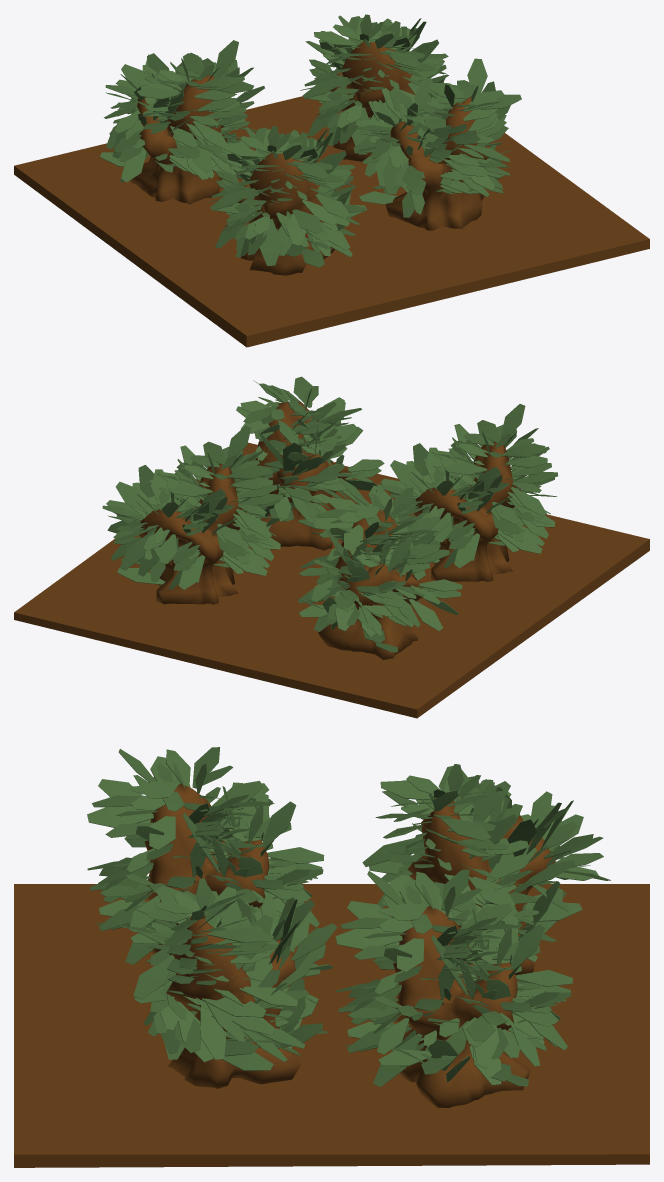
File: Coca.fbx
3 renders of one model, top to bottom at view 1: azimuth 30°, elevation 25°; view 2: azimuth 150°, elevation 25°; view 3: azimuth 270°, elevation 25°, orthographic. The views are drawn at different scales.
Parts seen in each view (by area): view 1: Cube.053, CocaBush.004, CocaBush.002, CocaBush.001, CocaBush.003, Leave_Instance.1614, Leave_Instance.173, Leave_Instance.693; view 2: Cube.053, CocaBush.003, CocaBush.001, CocaBush.002, CocaBush.004, Leave_Instance.1929, Leave_Instance.465, Leave_Instance.477; view 3: Cube.053, CocaBush.003, CocaBush.004, CocaBush.001, CocaBush.002, Leave_Instance.572, Leave_Instance.344, Leave_Instance.1626, Leave_Instance.567, Leave_Instance.198, Leave_Instance.712, Leave_Instance.1553 (+15 smaller).
Boxes of the visible parts, x1=… form: Cube.053: x1=14, y1=74, x2=649, y2=347; CocaBush.004: x1=385, y1=97, x2=488, y2=230; CocaBush.002: x1=130, y1=75, x2=226, y2=204; CocaBush.001: x1=238, y1=152, x2=334, y2=275; CocaBush.003: x1=330, y1=41, x2=414, y2=161; Leave_Instance.1614: x1=259, y1=219, x2=282, y2=265; Leave_Instance.173: x1=214, y1=40, x2=238, y2=78; Leave_Instance.693: x1=467, y1=58, x2=487, y2=98; Cube.053: x1=14, y1=442, x2=649, y2=718; CocaBush.003: x1=139, y1=463, x2=247, y2=604; CocaBush.001: x1=414, y1=441, x2=521, y2=582; CocaBush.002: x1=318, y1=509, x2=424, y2=659; CocaBush.004: x1=255, y1=401, x2=351, y2=550; Leave_Instance.1929: x1=390, y1=460, x2=426, y2=491; Leave_Instance.465: x1=115, y1=481, x2=151, y2=513; Leave_Instance.477: x1=120, y1=531, x2=154, y2=570; Cube.053: x1=14, y1=884, x2=649, y2=1167; CocaBush.003: x1=393, y1=906, x2=530, y2=1107; CocaBush.004: x1=166, y1=915, x2=301, y2=1088; CocaBush.001: x1=144, y1=783, x2=269, y2=955; CocaBush.002: x1=407, y1=800, x2=555, y2=975; Leave_Instance.572: x1=200, y1=1005, x2=226, y2=1059; Leave_Instance.344: x1=335, y1=929, x2=402, y2=949; Leave_Instance.1626: x1=87, y1=807, x2=153, y2=827; Leave_Instance.567: x1=133, y1=955, x2=174, y2=999; Leave_Instance.198: x1=486, y1=845, x2=536, y2=882; Leave_Instance.712: x1=202, y1=997, x2=266, y2=1017; Leave_Instance.1553: x1=262, y1=801, x2=296, y2=847.
Size of the model in its own units: 1.66 by 0.5997 by 1.66.
